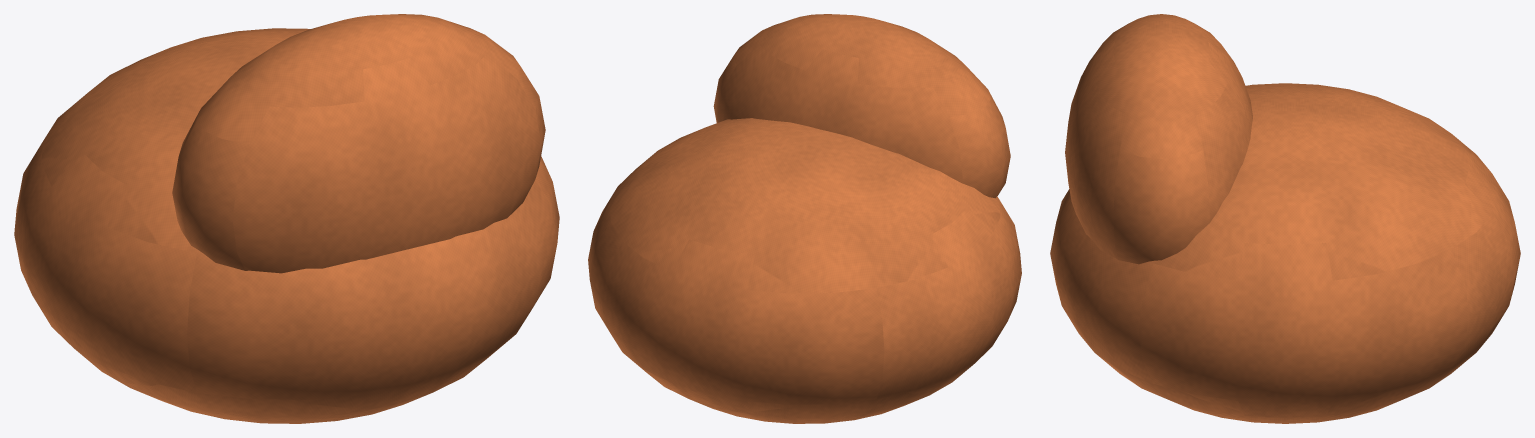
File: oficina_abierta.puf.fbx
3 renders of one model, left to right at view 1: azimuth 30°, elevation 25°; view 2: azimuth 150°, elevation 25°; view 3: azimuth 270°, elevation 25°, orthographic. The views are drawn at different scales.
Visible parts, largest first — view 1: Puf, Respaldo del puf; view 2: Puf, Respaldo del puf; view 3: Puf, Respaldo del puf.
Boxes of the visible parts, bbox=[...] form: Puf: bbox=[14, 28, 559, 423]; Respaldo del puf: bbox=[172, 14, 545, 273]; Puf: bbox=[588, 118, 1021, 423]; Respaldo del puf: bbox=[713, 14, 1010, 198]; Puf: bbox=[1050, 83, 1520, 423]; Respaldo del puf: bbox=[1065, 14, 1252, 264].
Size of the model in its own units: 0.76 by 0.635 by 0.76.
Materials: 1 (1 with a texture image).
